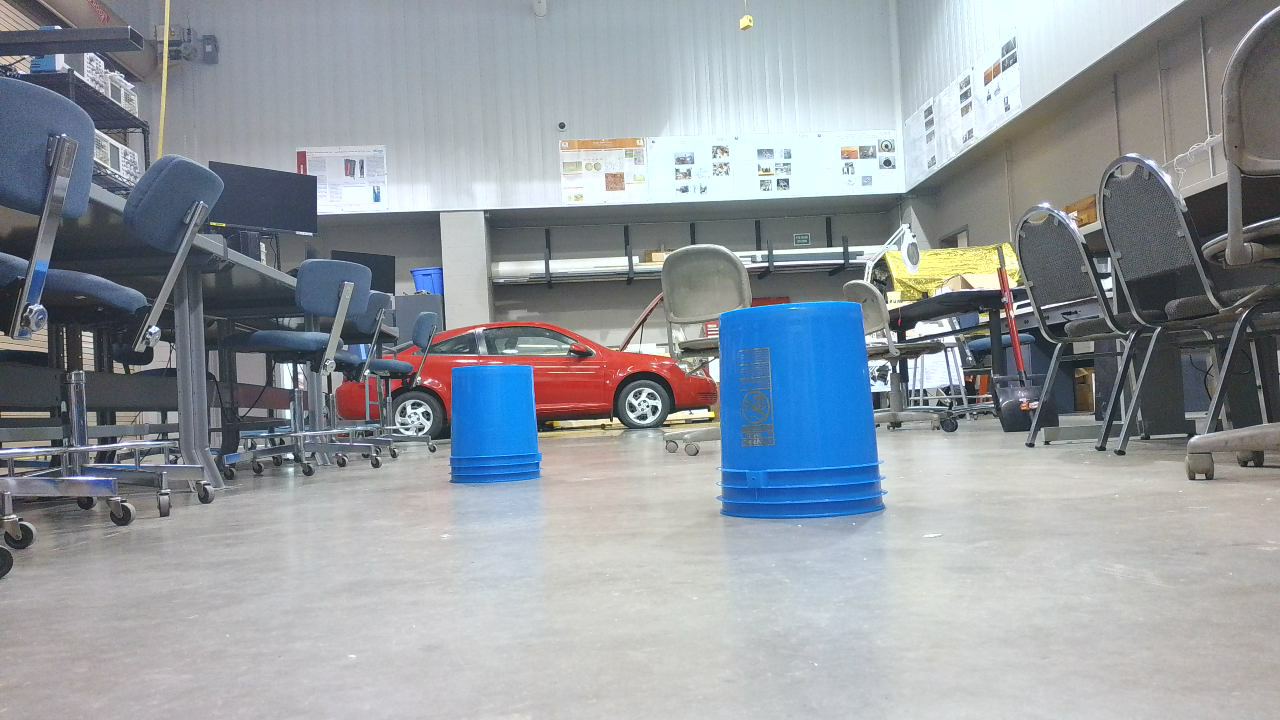blue_bucket: (721, 304, 894, 526), (453, 368, 548, 490)
